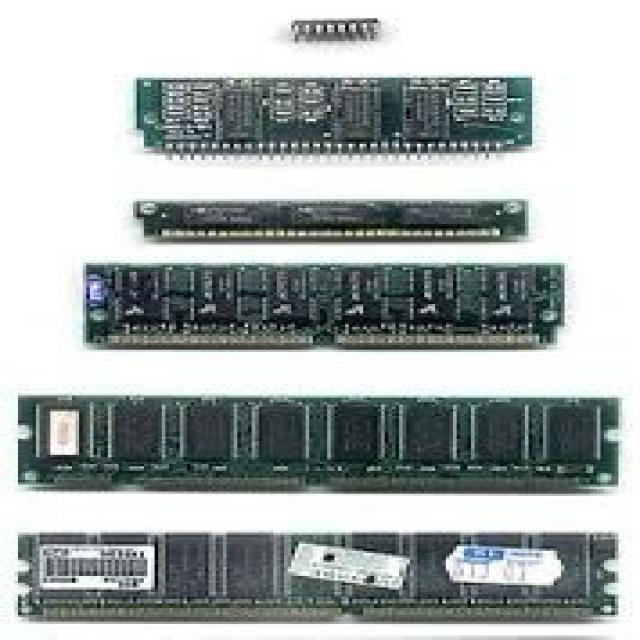Ram: (39, 14, 590, 626)
